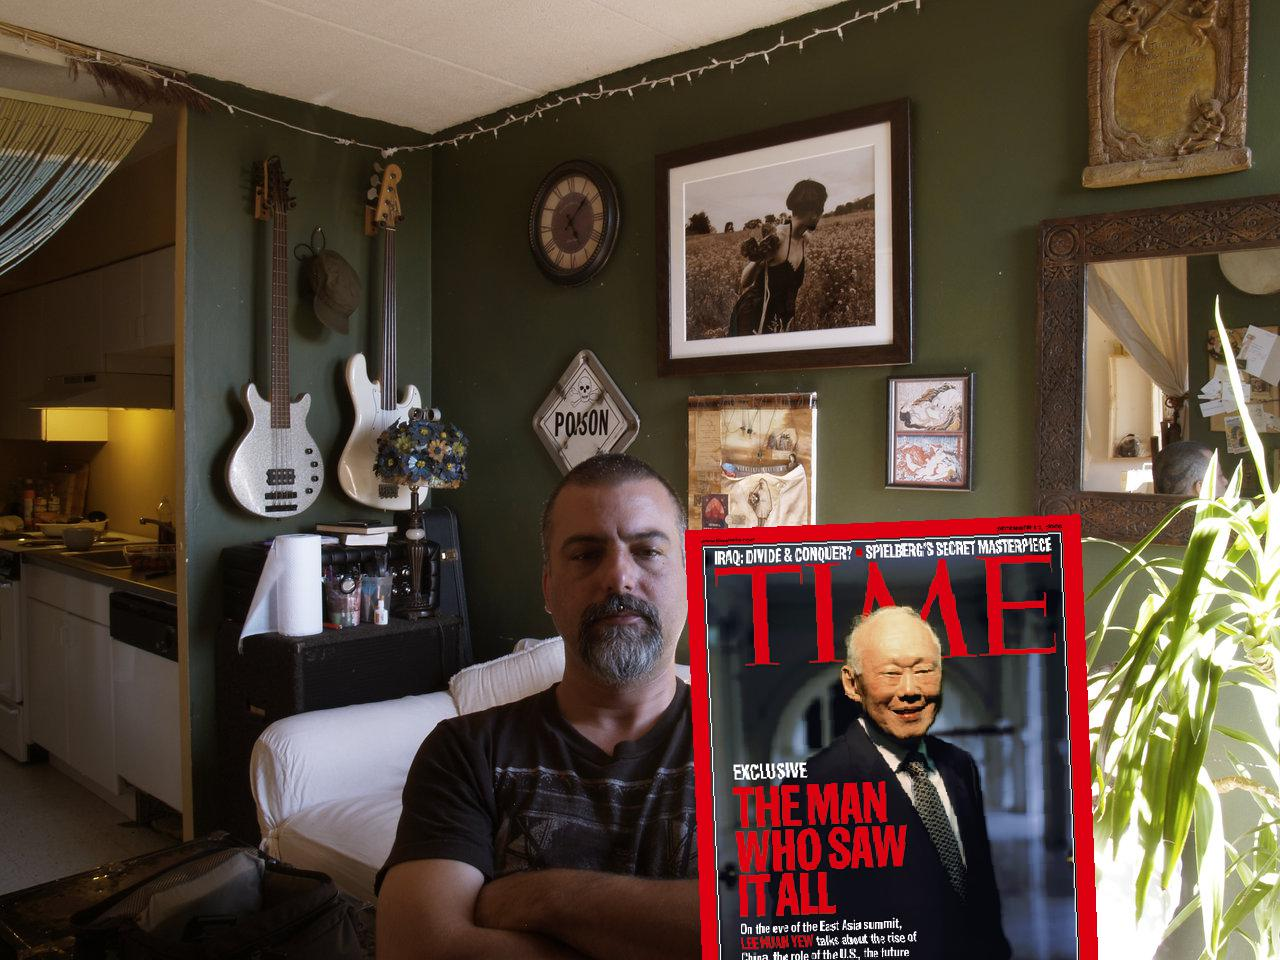times: (680, 512, 1098, 960)
